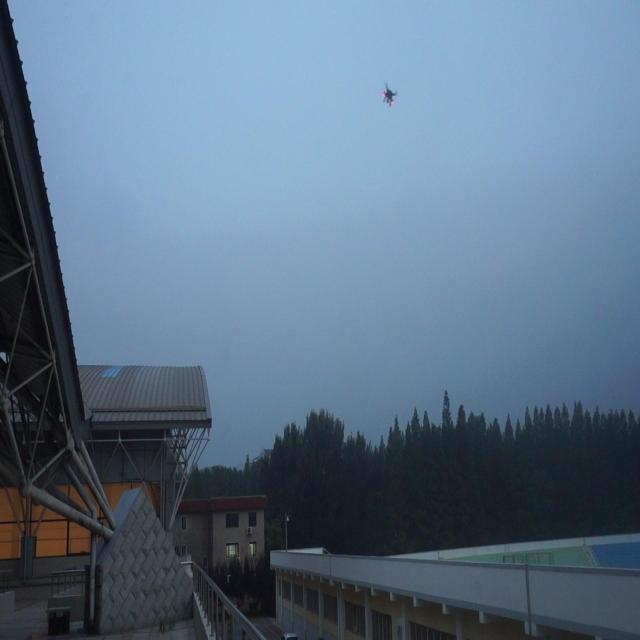drone: (379, 78, 398, 110)
